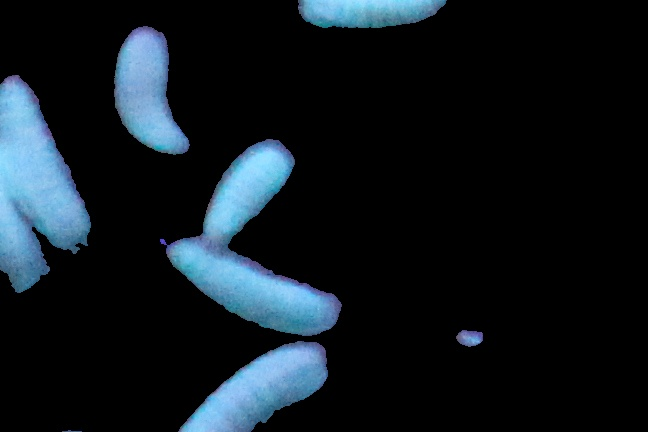larvae: (169, 242, 334, 337), (177, 337, 331, 432), (1, 83, 89, 247), (115, 30, 190, 156), (205, 146, 292, 243), (1, 145, 40, 287), (300, 1, 452, 29)
